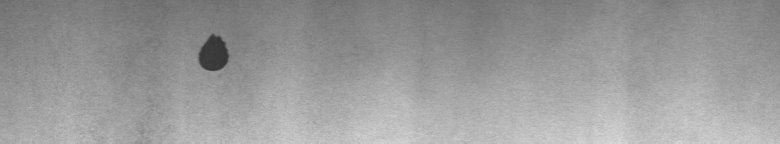fi: (192, 28, 236, 79)
